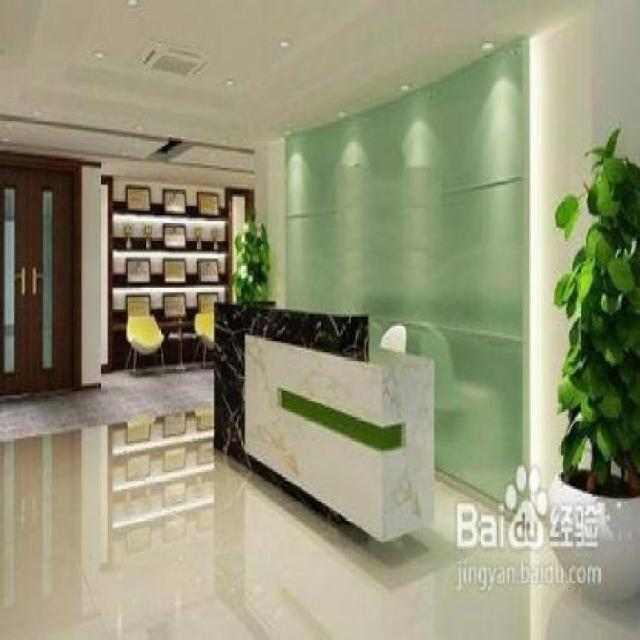frontdesk: (209, 285, 452, 559)
